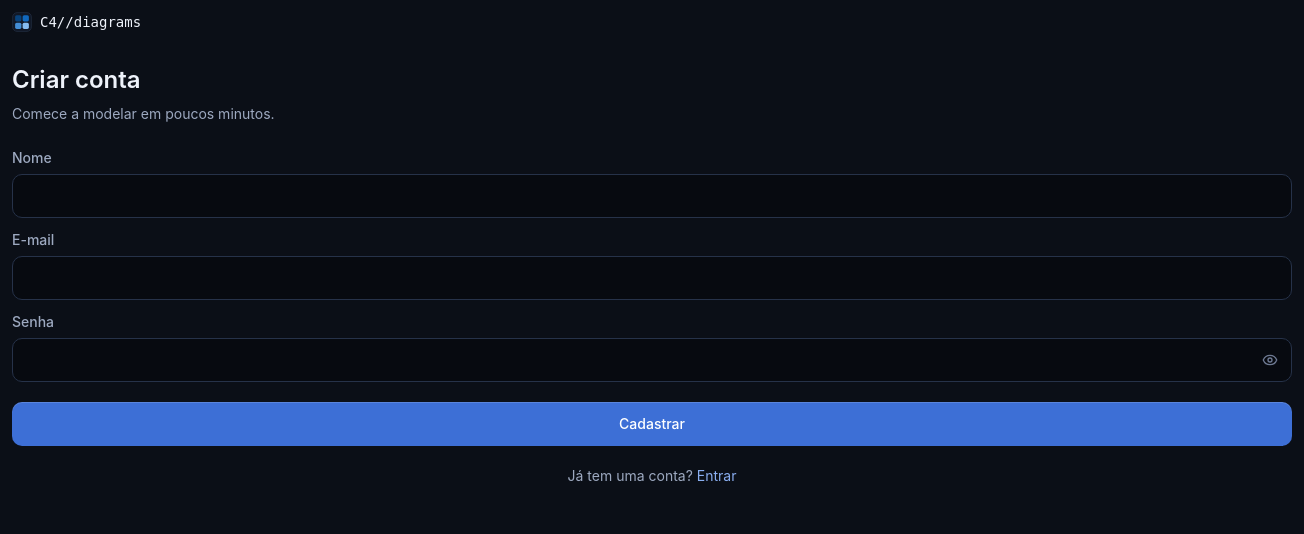
Test: Register › deve exibir mensagem de erro genérica quando não há resposta do servidor
Type "João" into the field labelled "Nome" at coordinates (652, 196), box x1=12 y1=174 x2=1292 y2=218
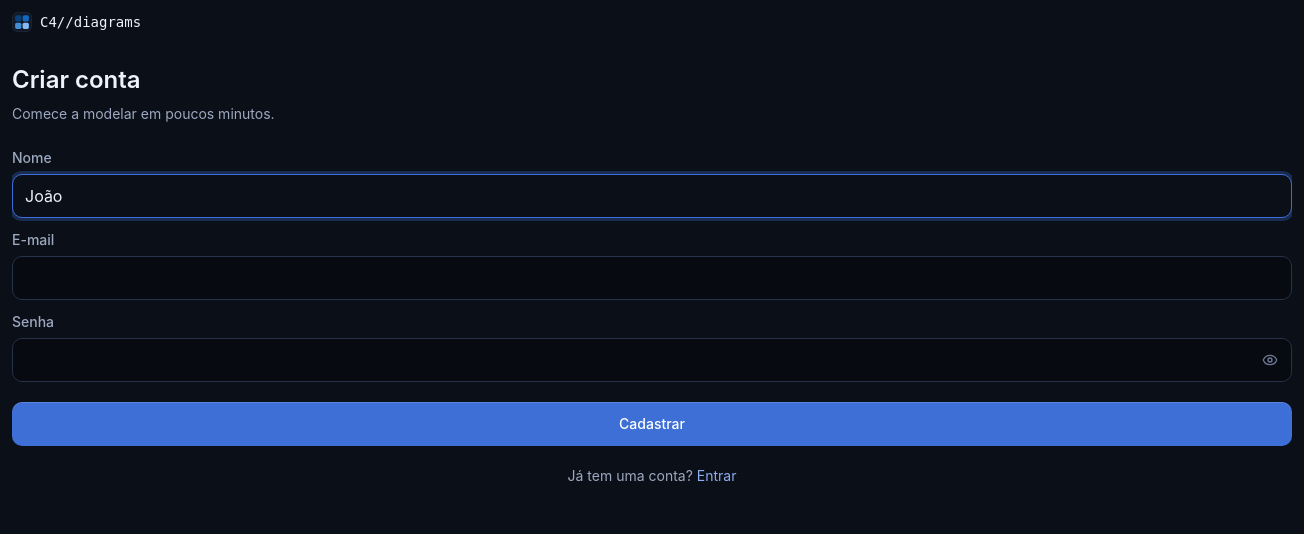
Type "joao@example.com" into the field labelled "E-mail" at coordinates (652, 278), box x1=12 y1=256 x2=1292 y2=300
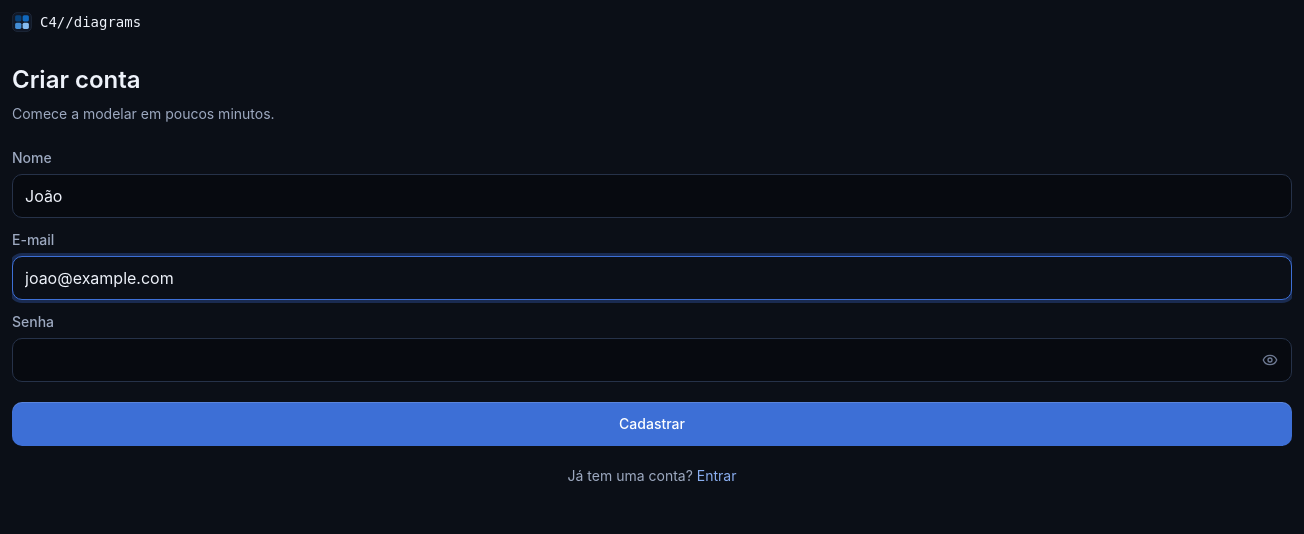
Type "Senha@12345" into the password field labelled "Senha" at coordinates (652, 360), box x1=12 y1=338 x2=1292 y2=382
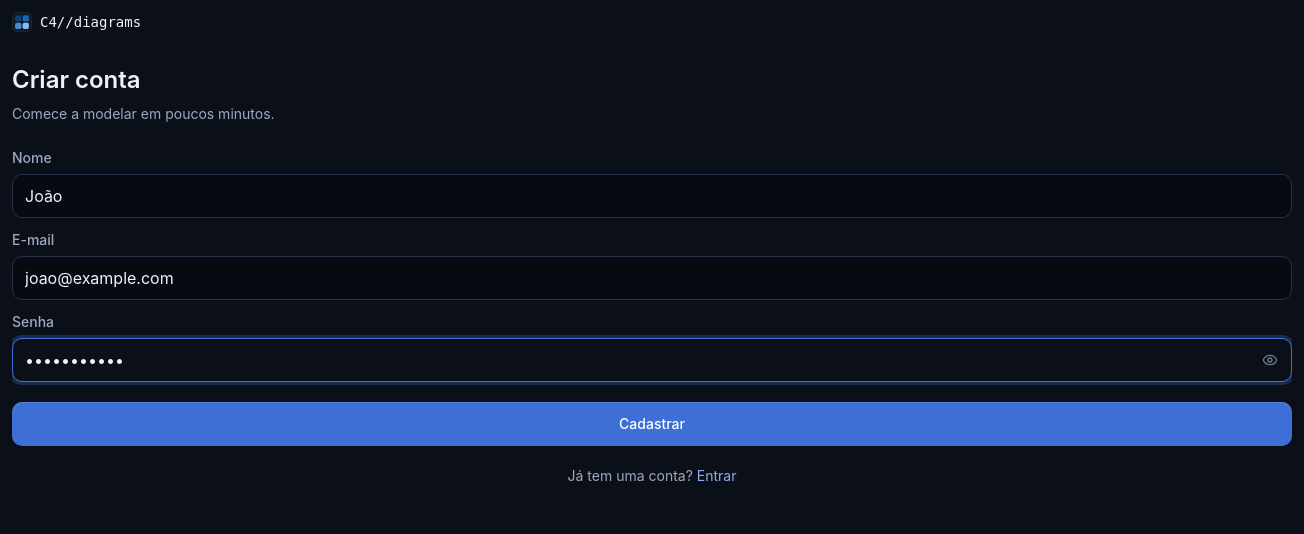
Click the button "Cadastrar" at coordinates (652, 424), box x1=12 y1=402 x2=1292 y2=446
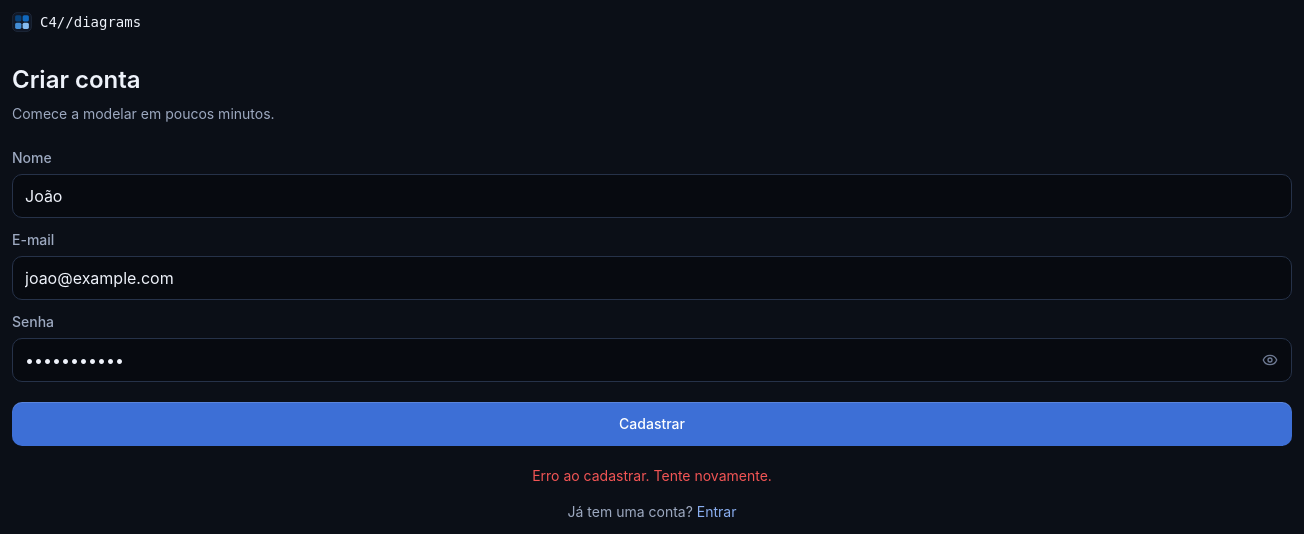
Expected: the text "Erro ao cadastrar. Tente novamente." is shown, x1=532 y1=467 x2=772 y2=484
